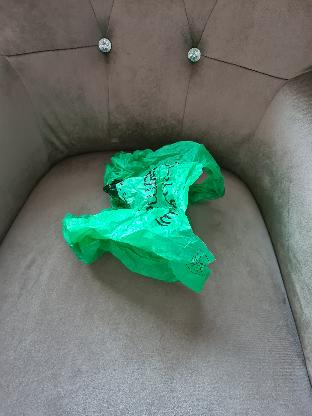Plastic Bag: (68, 140, 222, 286)
